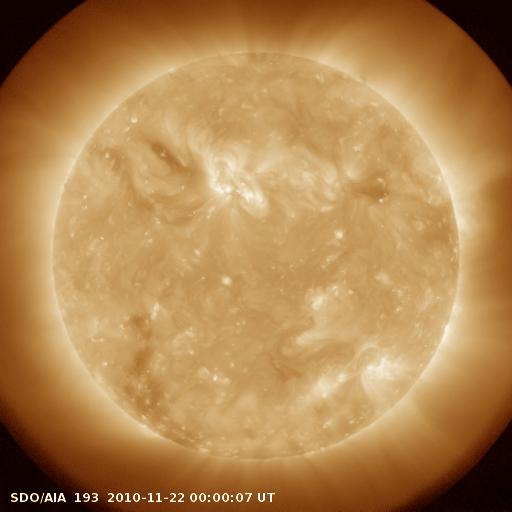coronal_hole: (115, 308, 187, 449), (141, 130, 191, 182)
